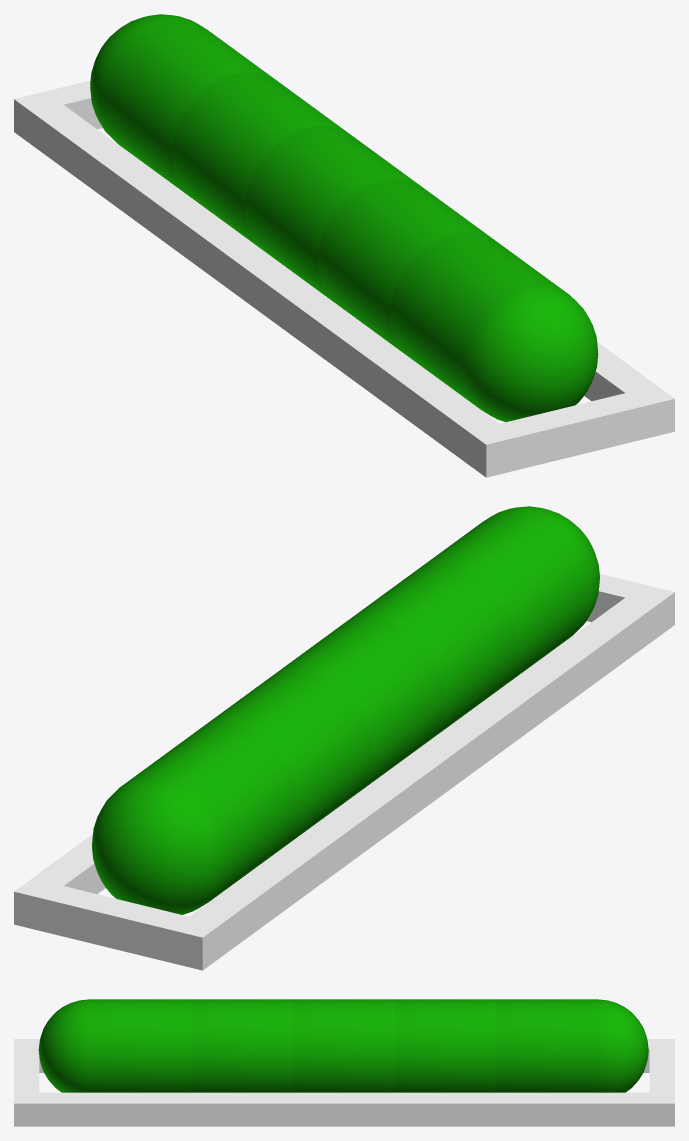
File: StreetFoilageNoTree1_PH.fbx
3 views of the same model, one above another, from view 1: azimuth 30°, elevation 25°; view 2: azimuth 150°, elevation 25°; view 3: azimuth 270°, elevation 25° (orthographic). The views are drawn at different scales.
Visible parts, largest first — view 1: BuildingBorer__19_, Bush__20_1, Bush__18_1, Bush__20_, Bush__18_, Bush__19_, BuildingBorer__20_, BuildingBorer__13_, BuildingBorer__21_; view 2: BuildingBorer__19_, Bush__18_1, Bush__20_1, Bush__18_, Bush__20_, Bush__19_, BuildingBorer__13_, BuildingBorer__20_, BuildingBorer__21_; view 3: BuildingBorer__21_, Bush__20_1, Bush__18_1, Bush__18_, Bush__20_, Bush__19_, BuildingBorer__13_, BuildingBorer__20_.
Boxes of the visible parts, left/top/right/bottom form: BuildingBorer__19_: left=32, top=105, right=499, bottom=463; Bush__20_1: left=390, top=232, right=598, bottom=422; Bush__18_1: left=90, top=14, right=276, bottom=196; Bush__20_: left=317, top=178, right=495, bottom=356; Bush__18_: left=172, top=72, right=350, bottom=249; Bush__19_: left=245, top=125, right=422, bottom=302; BuildingBorer__20_: left=468, top=385, right=674, bottom=477; BuildingBorer__13_: left=14, top=80, right=102, bottom=144; BuildingBorer__21_: left=584, top=342, right=656, bottom=401; BuildingBorer__19_: left=189, top=597, right=656, bottom=956; Bush__18_1: left=92, top=724, right=299, bottom=914; Bush__20_1: left=412, top=506, right=599, bottom=688; Bush__18_: left=195, top=671, right=372, bottom=848; Bush__20_: left=339, top=564, right=517, bottom=741; Bush__19_: left=267, top=617, right=444, bottom=795; BuildingBorer__13_: left=14, top=878, right=220, bottom=970; BuildingBorer__20_: left=586, top=574, right=674, bottom=637; BuildingBorer__21_: left=32, top=834, right=105, bottom=894; BuildingBorer__21_: left=39, top=1092, right=649, bottom=1126; Bush__20_1: left=38, top=999, right=191, bottom=1092; Bush__18_1: left=496, top=999, right=648, bottom=1092; Bush__18_: left=394, top=999, right=496, bottom=1092; Bush__20_: left=191, top=999, right=292, bottom=1092; Bush__19_: left=293, top=999, right=394, bottom=1092; BuildingBorer__13_: left=649, top=1039, right=674, bottom=1126; BuildingBorer__20_: left=14, top=1039, right=39, bottom=1126.
Bounding box in the file's own units: 150 × 100 × 650.
